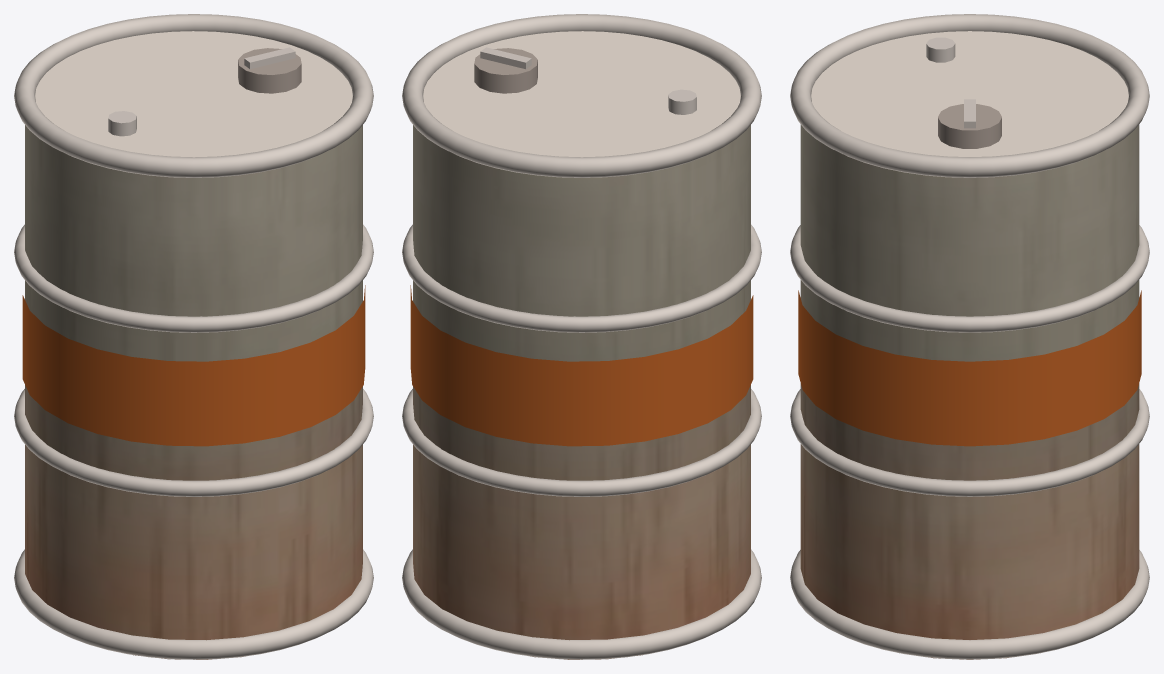
The model's file is D04_storage_drum.glb.
3 renders of one model, left to right at view 1: azimuth 30°, elevation 25°; view 2: azimuth 150°, elevation 25°; view 3: azimuth 270°, elevation 25°, orthographic.
Parts seen in each view (by area): view 1: drum, lid, rim, screw_cap; view 2: drum, lid, rim, screw_cap; view 3: drum, lid, rim, screw_cap.
Boxes of the visible parts, x1,y1,x2,y2 form: drum: (25, 125, 362, 640); lid: (22, 31, 365, 446); rim: (14, 14, 373, 659); screw_cap: (238, 48, 301, 93); drum: (413, 125, 750, 640); lid: (410, 31, 753, 446); rim: (402, 14, 761, 659); screw_cap: (474, 48, 537, 93); drum: (800, 124, 1139, 639); lid: (798, 31, 1141, 446); rim: (790, 14, 1149, 659); screw_cap: (938, 104, 1001, 148).
Size of the model in its own units: 0.616 by 0.9775 by 0.616.
Materials: 5 (1 with a texture image).
